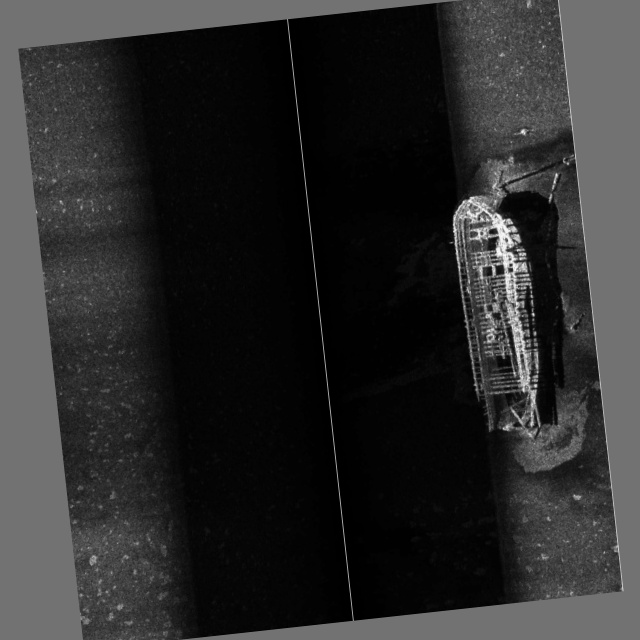Shipwreck: (440, 162, 587, 447)
